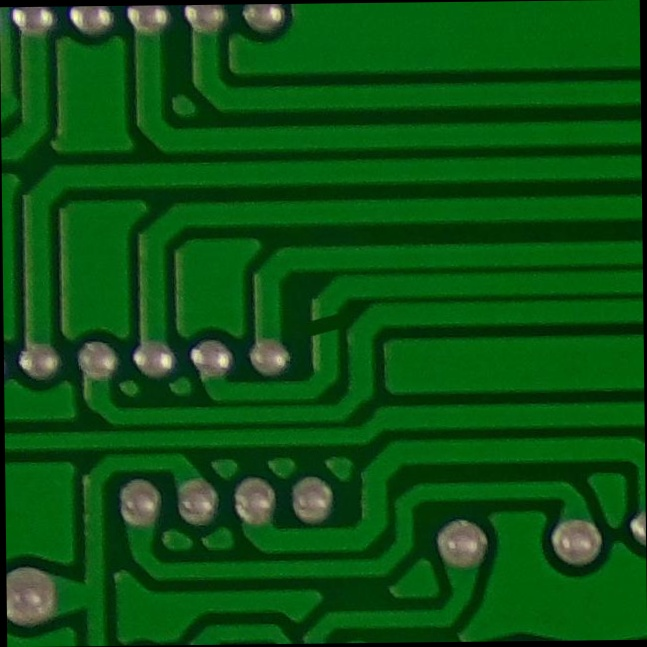open_circuit: (300, 301, 347, 346)
